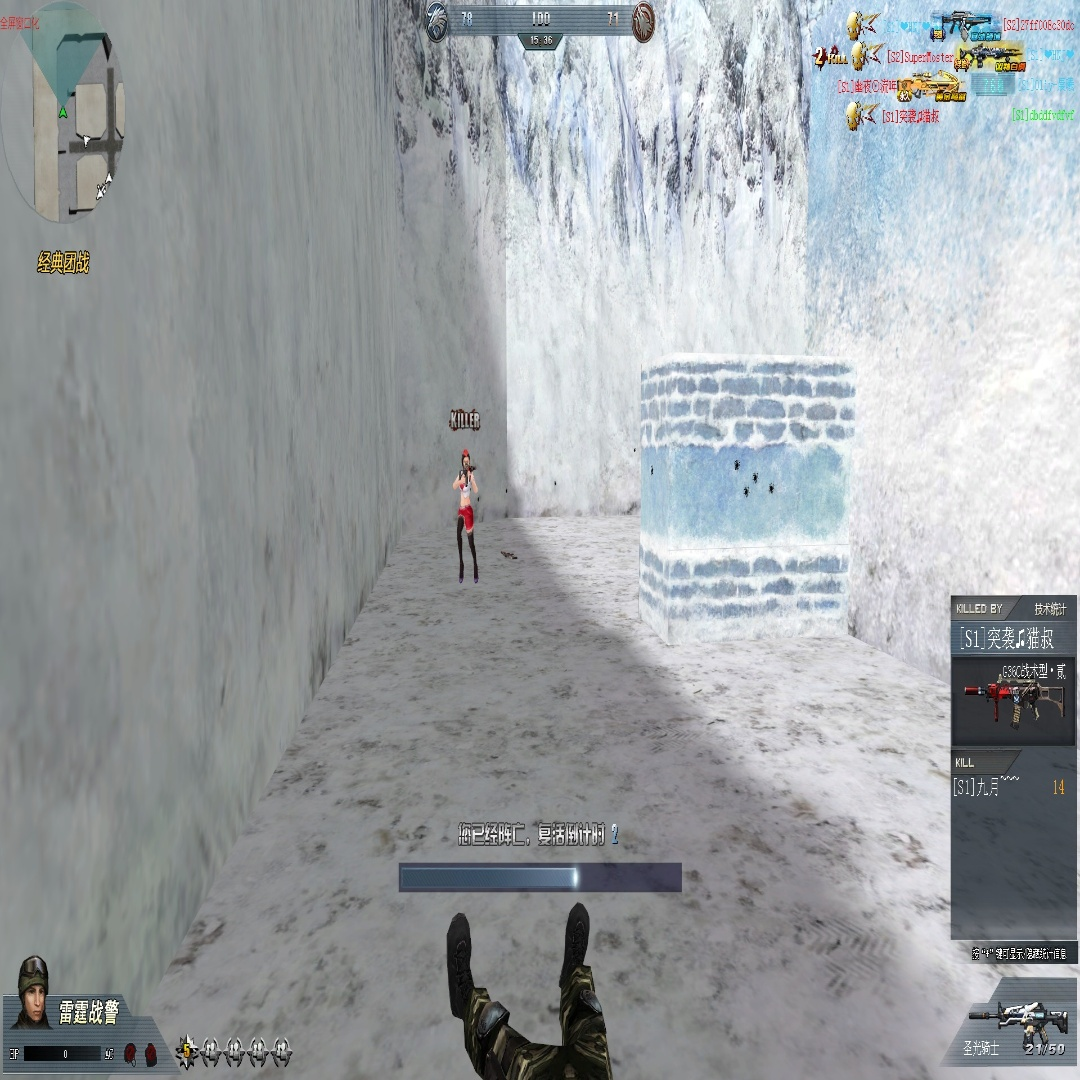t: (453, 449, 482, 581)
